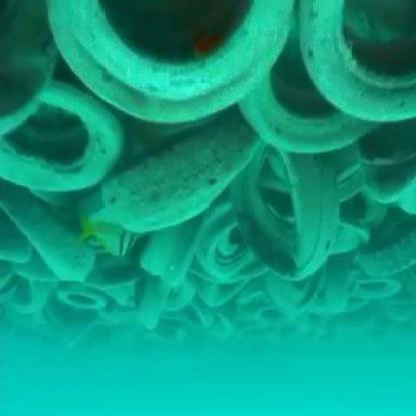tire: (39, 1, 295, 118), (89, 117, 270, 233), (221, 141, 349, 282), (294, 3, 416, 121), (1, 101, 131, 196), (225, 73, 360, 151), (1, 1, 61, 141), (1, 191, 98, 277), (193, 225, 256, 281), (139, 228, 192, 282), (130, 274, 169, 330), (342, 268, 404, 301), (1, 266, 42, 315), (49, 280, 112, 310), (253, 302, 303, 332), (193, 280, 238, 302)
